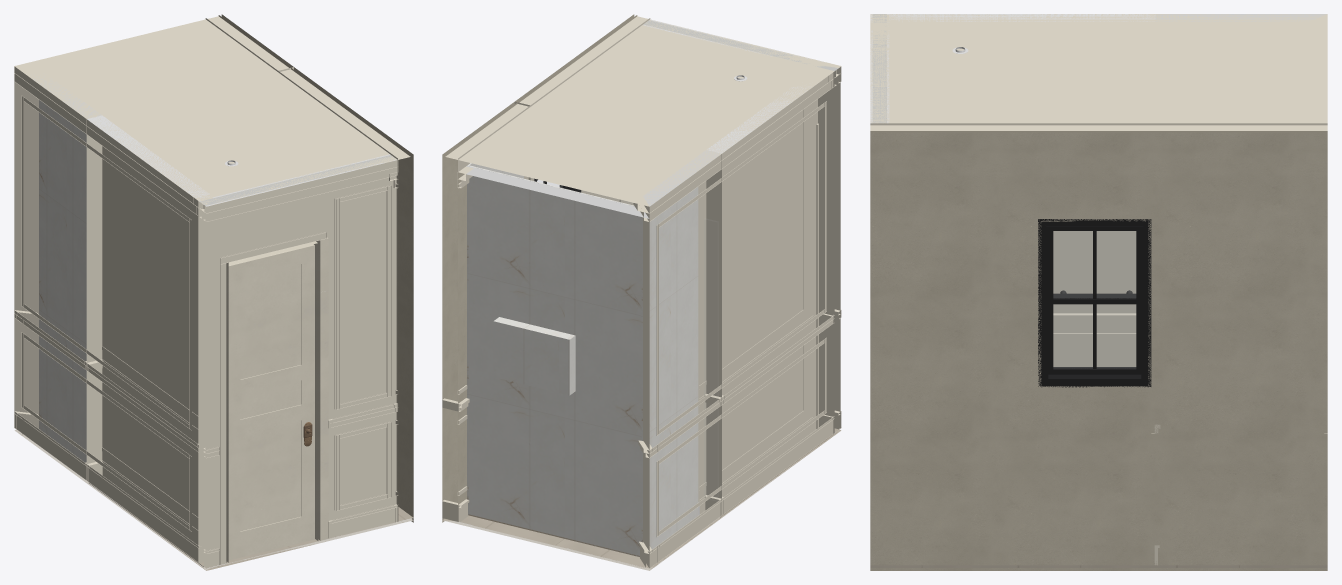
File: loli-bathroom-fceb8966cb74.glb
The picture shows the model from 3 angles, left to right: view 1: azimuth 30°, elevation 25°; view 2: azimuth 150°, elevation 25°; view 3: azimuth 270°, elevation 25°; orthographic projection. The views are drawn at different scales.
Visible parts, largest first — view 1: loli-bathroom-2575515a05775d9e, loli-bathroom-03bdd0165789d12b, loli-bathroom-0e637d2be41161fb, loli-bathroom-eceff908bd344cec, loli-bathroom-5795d1714989146e, loli-bathroom-e64cabe238f3e83a, loli-bathroom-319244b3406409d9, loli-bathroom-4a0606b58a607568, loli-bathroom-a8b6749dbb482e83, loli-bathroom-609bc1027670cc96, loli-bathroom-cc15fd6f291c811e, loli-bathroom-e2dd6cf138a61c96 (+19 smaller); view 2: loli-bathroom-51561c1911f47dcb, loli-bathroom-2575515a05775d9e, loli-bathroom-03bdd0165789d12b, loli-bathroom-5795d1714989146e, loli-bathroom-1c7325212038a6e7, loli-bathroom-e462de76b61e99cf, loli-bathroom-a90dd75c175210c7, loli-bathroom-0e637d2be41161fb, loli-bathroom-e64cabe238f3e83a, loli-bathroom-a8b6749dbb482e83, loli-bathroom-cc15fd6f291c811e, loli-bathroom-92c333610bf7beb4 (+13 smaller); view 3: loli-bathroom-319244b3406409d9, loli-bathroom-e462de76b61e99cf, loli-bathroom-2575515a05775d9e, loli-bathroom-15d1eb52c435a27e, loli-bathroom-03bdd0165789d12b, loli-bathroom-0e637d2be41161fb, loli-bathroom-3b0077416469e01b, loli-bathroom-76fec1e12e3db62a, loli-bathroom-1c7325212038a6e7, loli-bathroom-3b79cb6a0eb20f8c, loli-bathroom-687fd4d2e321b111.
Boxes of the visible parts, x1=… form: loli-bathroom-2575515a05775d9e: x1=14, y1=15, x2=410, y2=201; loli-bathroom-03bdd0165789d12b: x1=86, y1=115, x2=209, y2=560; loli-bathroom-0e637d2be41161fb: x1=198, y1=154, x2=397, y2=568; loli-bathroom-eceff908bd344cec: x1=228, y1=244, x2=314, y2=560; loli-bathroom-5795d1714989146e: x1=39, y1=100, x2=86, y2=462; loli-bathroom-e64cabe238f3e83a: x1=14, y1=78, x2=38, y2=428; loli-bathroom-319244b3406409d9: x1=278, y1=67, x2=413, y2=521; loli-bathroom-4a0606b58a607568: x1=318, y1=237, x2=328, y2=540; loli-bathroom-a8b6749dbb482e83: x1=14, y1=412, x2=199, y2=562; loli-bathroom-609bc1027670cc96: x1=206, y1=160, x2=398, y2=221; loli-bathroom-cc15fd6f291c811e: x1=14, y1=67, x2=199, y2=216; loli-bathroom-e2dd6cf138a61c96: x1=220, y1=232, x2=326, y2=564; loli-bathroom-51561c1911f47dcb: x1=467, y1=165, x2=642, y2=556; loli-bathroom-2575515a05775d9e: x1=445, y1=15, x2=840, y2=206; loli-bathroom-03bdd0165789d12b: x1=707, y1=86, x2=833, y2=482; loli-bathroom-5795d1714989146e: x1=641, y1=187, x2=698, y2=549; loli-bathroom-1c7325212038a6e7: x1=643, y1=150, x2=721, y2=567; loli-bathroom-e462de76b61e99cf: x1=442, y1=102, x2=530, y2=502; loli-bathroom-a90dd75c175210c7: x1=493, y1=317, x2=575, y2=395; loli-bathroom-0e637d2be41161fb: x1=643, y1=19, x2=840, y2=433; loli-bathroom-e64cabe238f3e83a: x1=458, y1=165, x2=649, y2=548; loli-bathroom-a8b6749dbb482e83: x1=649, y1=417, x2=834, y2=567; loli-bathroom-cc15fd6f291c811e: x1=649, y1=72, x2=834, y2=221; loli-bathroom-92c333610bf7beb4: x1=656, y1=101, x2=826, y2=435; loli-bathroom-319244b3406409d9: x1=870, y1=123, x2=1155, y2=565; loli-bathroom-e462de76b61e99cf: x1=1155, y1=123, x2=1327, y2=565; loli-bathroom-2575515a05775d9e: x1=870, y1=14, x2=1327, y2=132; loli-bathroom-15d1eb52c435a27e: x1=1038, y1=219, x2=1151, y2=387; loli-bathroom-03bdd0165789d12b: x1=889, y1=14, x2=1155, y2=366; loli-bathroom-0e637d2be41161fb: x1=870, y1=14, x2=889, y2=123; loli-bathroom-3b0077416469e01b: x1=870, y1=565, x2=1327, y2=567; loli-bathroom-76fec1e12e3db62a: x1=870, y1=568, x2=1327, y2=570; loli-bathroom-1c7325212038a6e7: x1=1155, y1=14, x2=1326, y2=21; loli-bathroom-3b79cb6a0eb20f8c: x1=1053, y1=313, x2=1136, y2=323; loli-bathroom-687fd4d2e321b111: x1=872, y1=14, x2=883, y2=123.
Size of the model in its own units: 1.8 by 3.05 by 2.88.
Materials: 41 (7 with a texture image).
